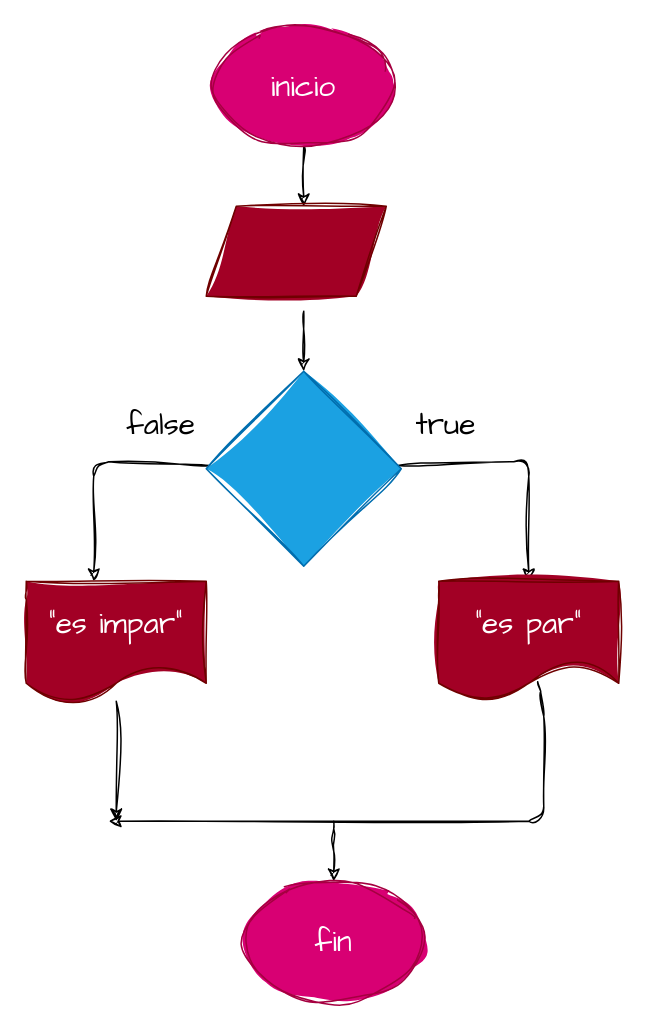
Image size: 645x1028. Some labels were removed from this diagram. The shapes that lost their labels are listed below. From the top down, each one's centre as x and y in pixels, then its label:
At [295,250]: "num".
At [303,468]: "num%2=0".
